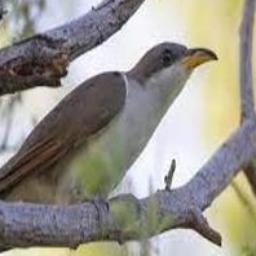Cuckoo: (0, 41, 217, 206)
